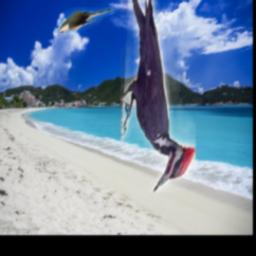Cuckoo: (55, 7, 115, 33)
Woodpecker: (122, 0, 197, 193)
